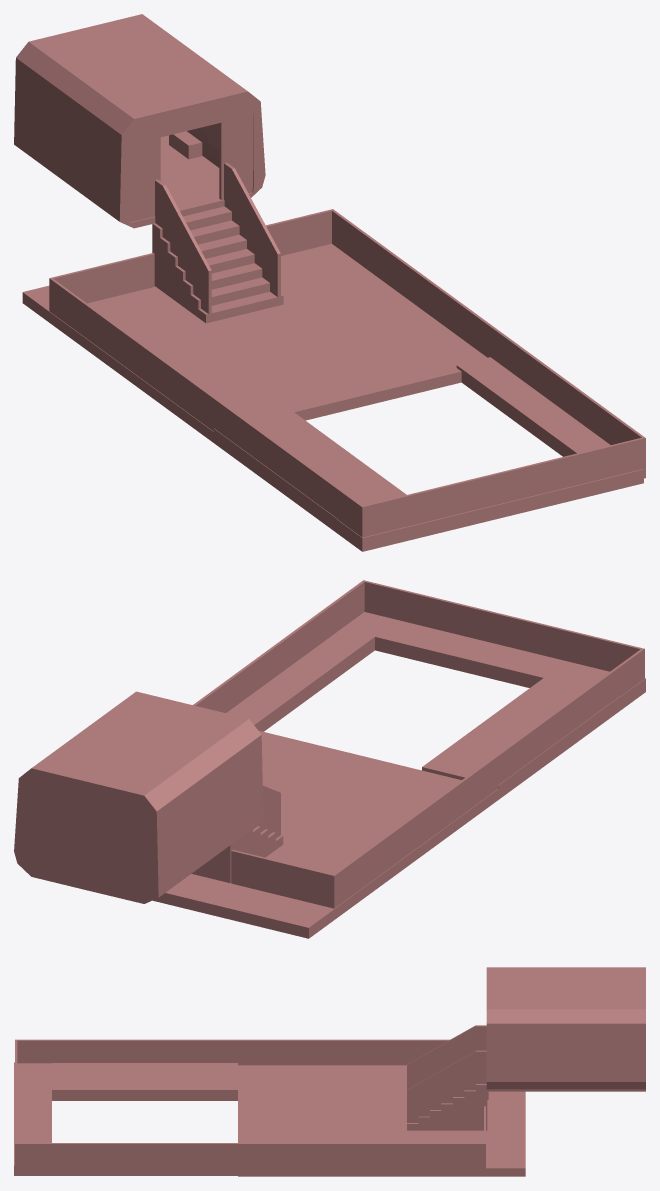
The model's file is penzhuang.fbx.
The picture shows the model from 3 angles, top to bottom: view 1: azimuth 30°, elevation 25°; view 2: azimuth 150°, elevation 25°; view 3: azimuth 270°, elevation 25°; orthographic projection. The views are drawn at different scales.
Parts seen in each view (by area): view 1: penzhuan; view 2: penzhuan; view 3: penzhuan.
Boxes of the visible parts, bbox=[...] form: penzhuan: bbox=[14, 14, 645, 551]; penzhuan: bbox=[14, 580, 645, 938]; penzhuan: bbox=[14, 967, 645, 1176].
Size of the model in its own units: 1144 by 700 by 2928.
